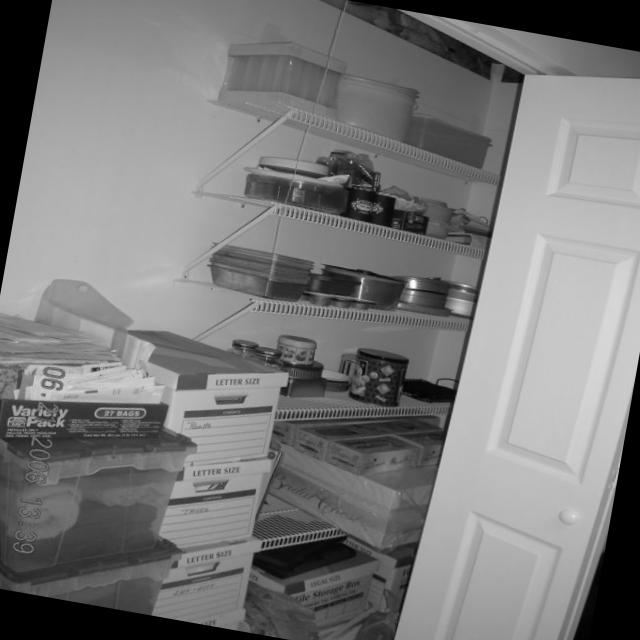box contants: (216, 41, 345, 123)
boxs: (0, 312, 286, 623)
bucket crop: (336, 70, 418, 145)
door bars: (389, 71, 640, 640)
pantry door: (0, 0, 521, 640)
saucepan: (317, 264, 405, 310), (397, 274, 447, 312)
shelf crop: (214, 101, 493, 183), (203, 193, 474, 254), (176, 278, 462, 328)
tin box: (346, 348, 405, 403)
wall clock: (397, 9, 640, 74)
